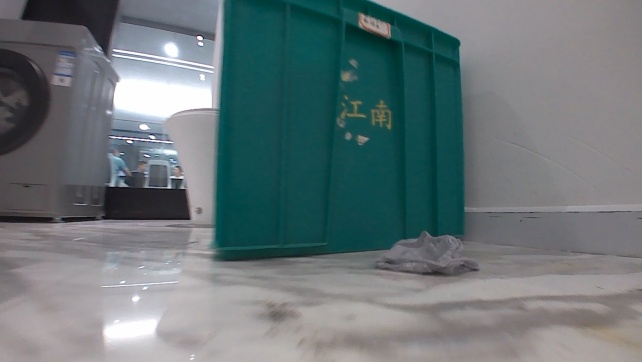socks: (373, 228, 481, 275)
toilet: (163, 105, 215, 229)
washing_machine: (0, 15, 121, 222)
